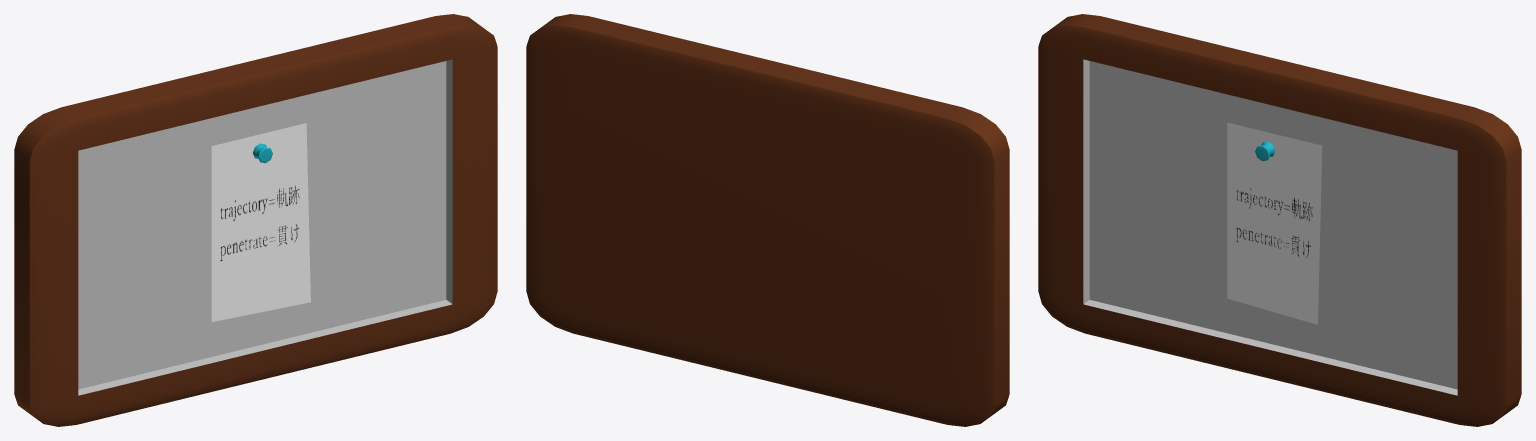
File: keigi5.fbx
3 views of the same model, side by side, from view 1: azimuth 30°, elevation 25°; view 2: azimuth 150°, elevation 25°; view 3: azimuth 330°, elevation 25° (orthographic).
Parts seen in each view (by area): view 1: obj1, obj3; view 2: obj1; view 3: obj1, obj3.
Boxes of the visible parts, x1,y1,x2,y2 form: obj1: (14,14,497,426); obj3: (211,123,310,321); obj1: (526,14,1009,426); obj1: (1038,14,1521,426); obj3: (1227,122,1322,324).
Size of the model in its own units: 195 by 122 by 17.05.
